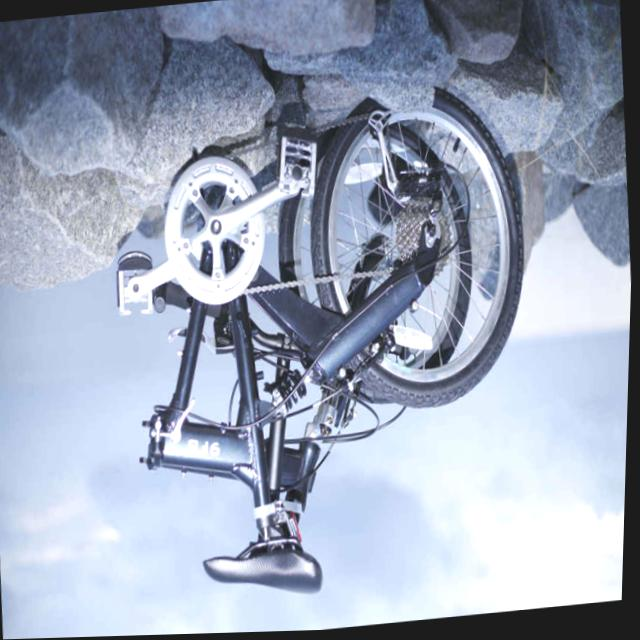folding-bike: (93, 82, 553, 616)
